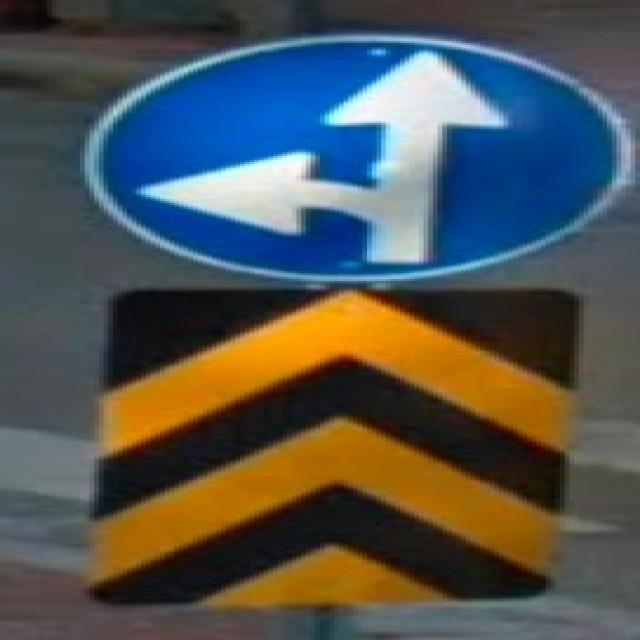Straight or Left: (84, 36, 625, 282)
